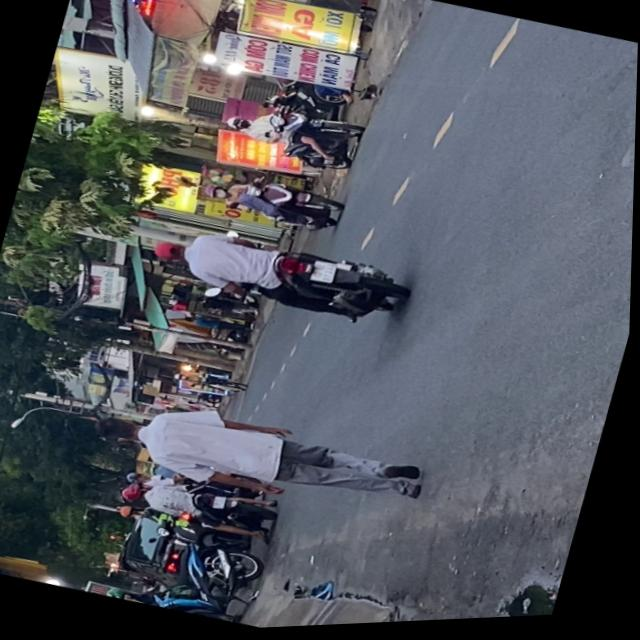helmet: (122, 481, 151, 504), (201, 181, 231, 202), (225, 115, 251, 133)
licenseplate: (142, 207, 418, 345), (116, 464, 284, 548), (218, 91, 369, 181), (197, 162, 349, 242)
motorcyclist: (151, 236, 191, 265)
nohelmet: (312, 260, 338, 286), (214, 496, 229, 511)
